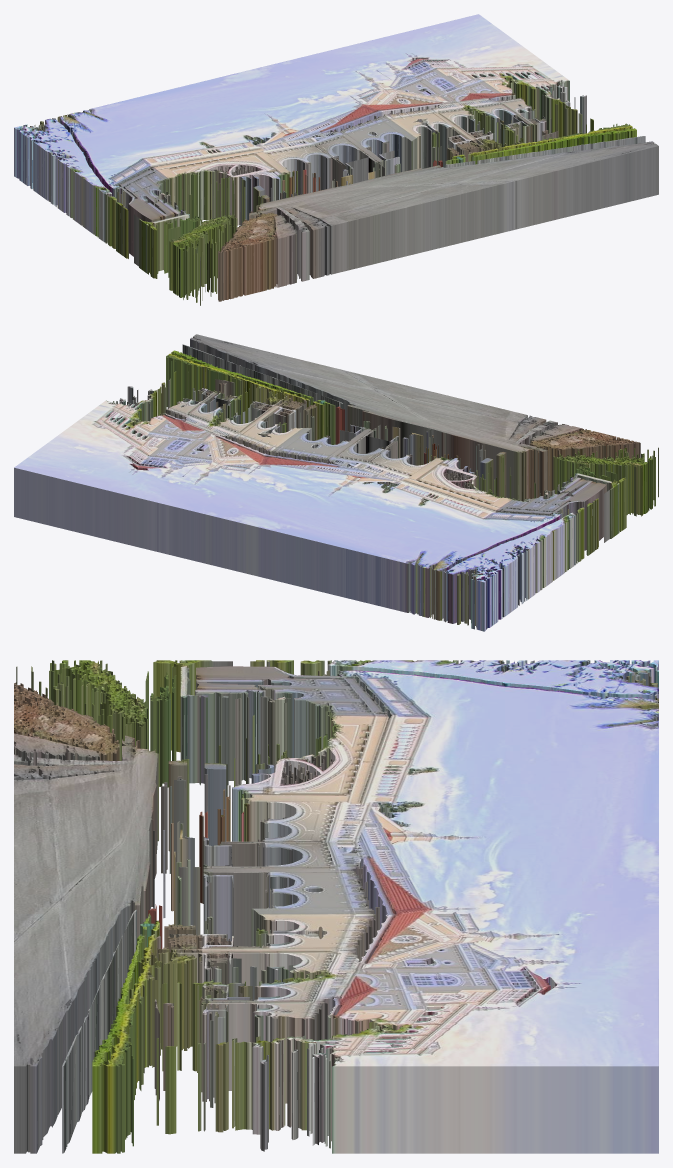
Rendered from asset.glb.
3 views of the same model, one above another, from view 1: azimuth 30°, elevation 25°; view 2: azimuth 150°, elevation 25°; view 3: azimuth 270°, elevation 25° (orthographic). The views are drawn at different scales.
Size of the model in its own units: 0.224 by 0.0224 by 0.1504.
1 material, 1 textured.
